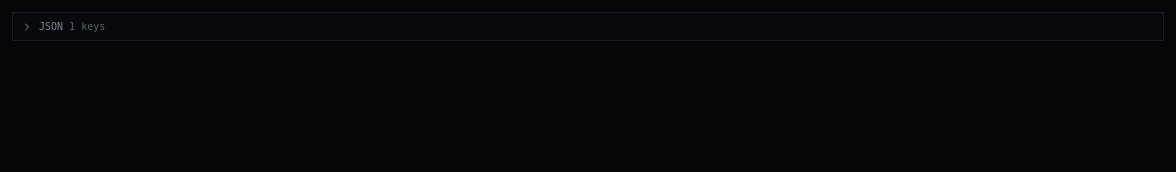
Test: JsonViewer › reveals the JSON when the disclosure button is clicked
Click the button "JSON 1 keys": (87, 26) [13, 13, 1163, 40]
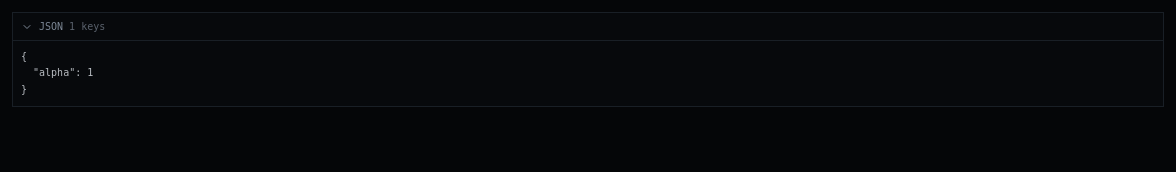
Result: the text "{ \"alpha\": 1 }" is shown at [13, 40, 1163, 106]
